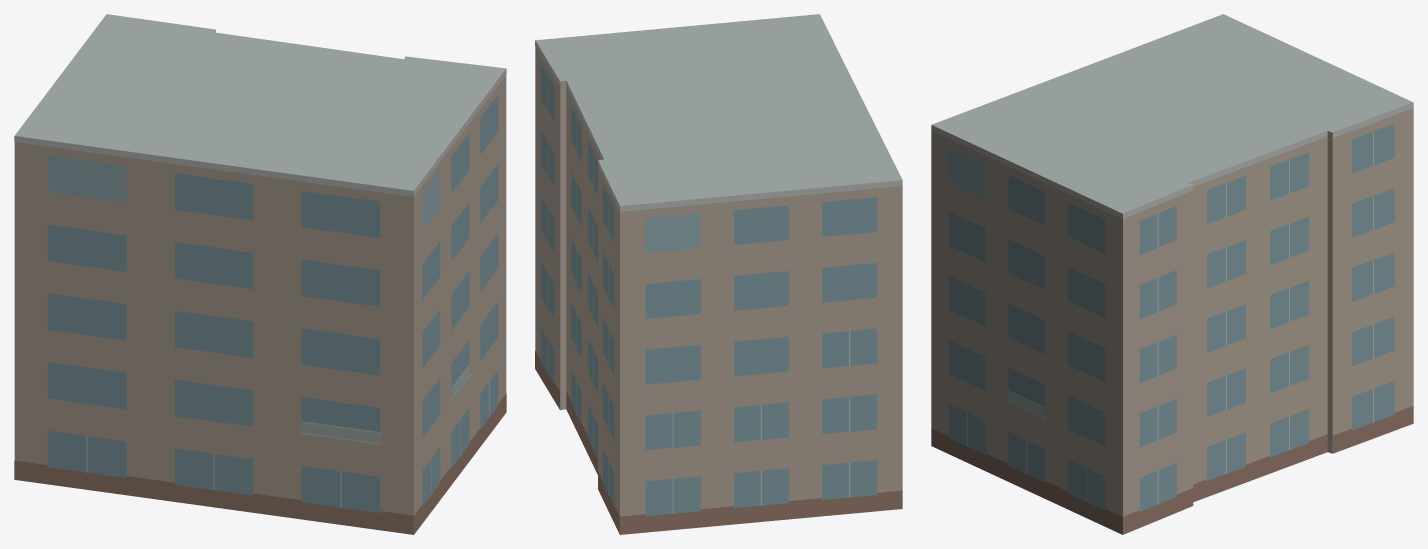
Rendered from survey-upis-32578427.glb.
3 renders of one model, left to right at view 1: azimuth 30°, elevation 25°; view 2: azimuth 150°, elevation 25°; view 3: azimuth 270°, elevation 25°, orthographic. The views are drawn at different scales.
Visible parts, largest first — view 1: survey-upis-32578427.tmp; view 2: survey-upis-32578427.tmp; view 3: survey-upis-32578427.tmp.
Part boxes in pixels (left/top/right/bottom): survey-upis-32578427.tmp: left=14, top=14, right=506, bottom=534; survey-upis-32578427.tmp: left=535, top=14, right=902, bottom=534; survey-upis-32578427.tmp: left=931, top=14, right=1413, bottom=534.
Size of the model in its own units: 18.34 by 13.75 by 18.72.
